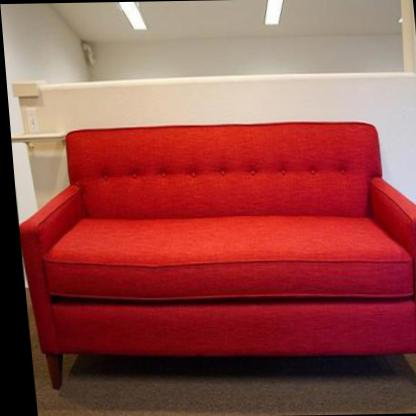Sofa: (9, 121, 416, 398)
